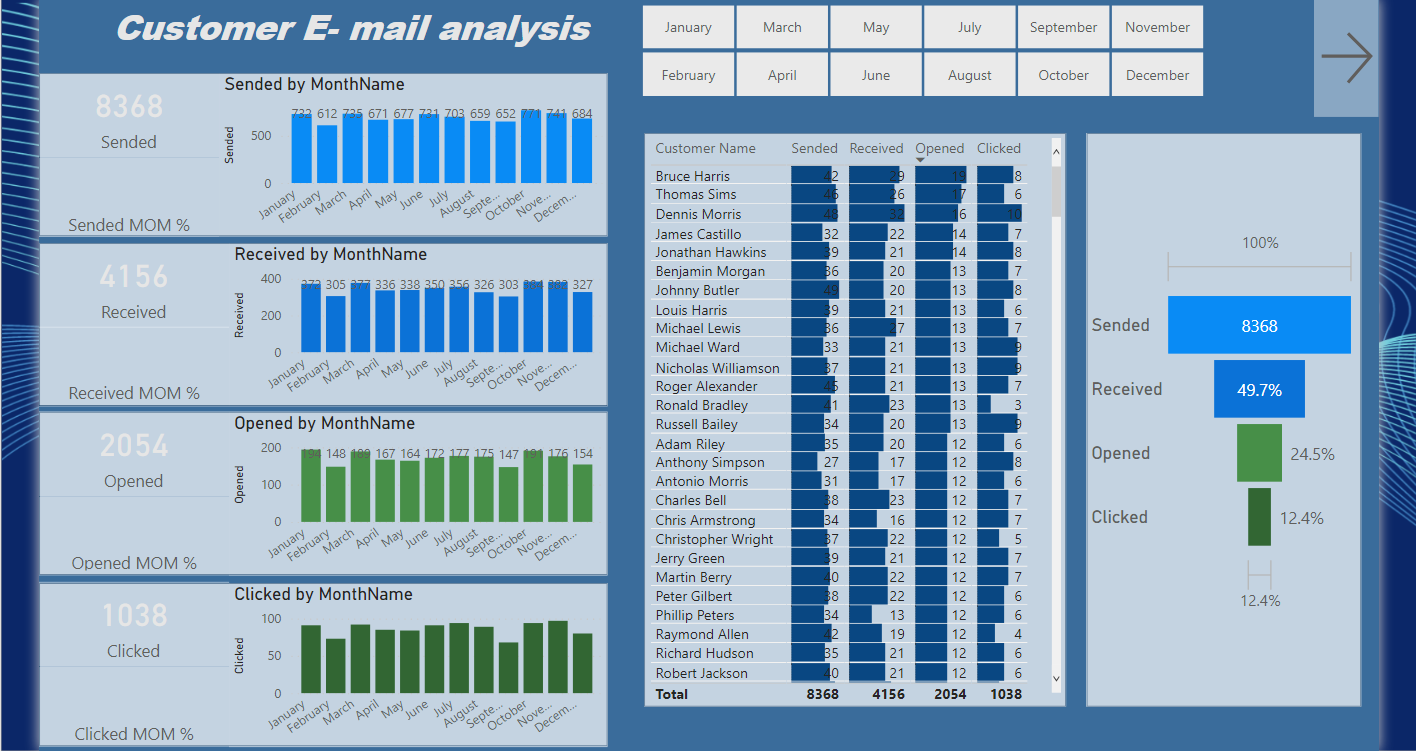

This screenshot's page, from the dashboard's own definition file:
{"tool":"powerbi","page":{"name":"Page 1","canvas":[1280,720],"ordinal":0},"visuals":[{"type":"shape","box":[0,71.4,543.3,156.1],"z":0},{"type":"shape","box":[0,233.5,543.3,156.1],"z":1000},{"type":"shape","box":[0,395.7,543.3,156.1],"z":2000},{"type":"shape","box":[0,559.1,543.3,156.1],"z":3000},{"type":"shape","box":[1000.6,129,262.7,548.1],"z":4000},{"type":"shape","box":[577.9,129,403.6,548.1],"z":5000},{"type":"funnel","fields":{"Y":["Email.Sended","Email.Received","Email.Opened","Email.Clicked"]},"box":[1000.6,129,262.7,548.1],"z":6000},{"type":"slicer","fields":{"Values":["Dates.MonthName"]},"box":[550.6,0,585.7,100.4],"z":7000},{"type":"card","fields":{"Values":["Email.Sended"]},"box":[0,71.4,171.8,81.1],"z":8000},{"type":"columnChart","fields":{"Y":["Email.Sended"],"Category":["Dates.MonthName"]},"box":[171.8,71.4,371.5,156.1],"z":9000},{"type":"columnChart","fields":{"Category":["Dates.MonthName"],"Y":["Email.Received"]},"box":[181.5,234,361.8,155.2],"z":10000},{"type":"columnChart","fields":{"Category":["Dates.MonthName"],"Y":["Email.Opened"]},"box":[181.5,395.2,361.8,156.4],"z":11000},{"type":"columnChart","fields":{"Y":["Email.Clicked"],"Category":["Dates.MonthName"]},"box":[181.5,558.8,361.8,156.4],"z":12000},{"type":"card","fields":{"Values":["Email.Sended Df"]},"box":[0,152.5,171.8,75],"z":13000},{"type":"card","fields":{"Values":["Email.Received"]},"box":[0,233.5,181.3,81],"z":14000},{"type":"card","fields":{"Values":["Email.Opened"]},"box":[0,395.5,181.3,81],"z":15000},{"type":"card","fields":{"Values":["Email.Opened Df"]},"box":[0,476.8,181.5,75],"z":16000},{"type":"card","fields":{"Values":["Email.Clicked"]},"box":[0,557.6,181.3,81],"z":17000},{"type":"card","fields":{"Values":["Email.Clicked Df"]},"box":[0,638.9,181.5,76.2],"z":18000},{"type":"tableEx","fields":{"Values":["CustomerEmail.Customer Name","Email.Sended","Email.Received","Email.Opened","Email.Clicked"]},"box":[577.9,129,403.6,548.1],"z":19000},{"type":"textbox","box":[16.6,0,561.2,84.3],"z":20000},{"type":"card","fields":{"Values":["Email.Received Df"]},"box":[0,314.6,181.5,75],"z":21000},{"type":"actionButton","box":[1217.3,0,61.7,113.7],"z":22000}]}

Visuals, with their boxes on the page's 1280x720 design canvas (x1, y1, x2, y2). These are canvas units, not pixel positions in the 1416x751 screenshot, which may show the page scaled, cropped or inside an application window:
shape: <box>0,71,543,228</box>
shape: <box>0,234,543,390</box>
shape: <box>0,396,543,552</box>
shape: <box>0,559,543,715</box>
shape: <box>1001,129,1263,677</box>
shape: <box>578,129,982,677</box>
funnel - Email.Sended x Email.Received: <box>1001,129,1263,677</box>
slicer - Dates.MonthName: <box>551,0,1136,100</box>
card - Email.Sended: <box>0,71,172,152</box>
columnChart - Email.Sended x Dates.MonthName: <box>172,71,543,228</box>
columnChart - Dates.MonthName x Email.Received: <box>182,234,543,389</box>
columnChart - Dates.MonthName x Email.Opened: <box>182,395,543,552</box>
columnChart - Email.Clicked x Dates.MonthName: <box>182,559,543,715</box>
card - Email.Sended Df: <box>0,152,172,228</box>
card - Email.Received: <box>0,234,181,314</box>
card - Email.Opened: <box>0,396,181,476</box>
card - Email.Opened Df: <box>0,477,182,552</box>
card - Email.Clicked: <box>0,558,181,639</box>
card - Email.Clicked Df: <box>0,639,182,715</box>
tableEx - CustomerEmail.Customer Name x Email.Sended: <box>578,129,982,677</box>
textbox: <box>17,0,578,84</box>
card - Email.Received Df: <box>0,315,182,390</box>
actionButton: <box>1217,0,1279,114</box>
